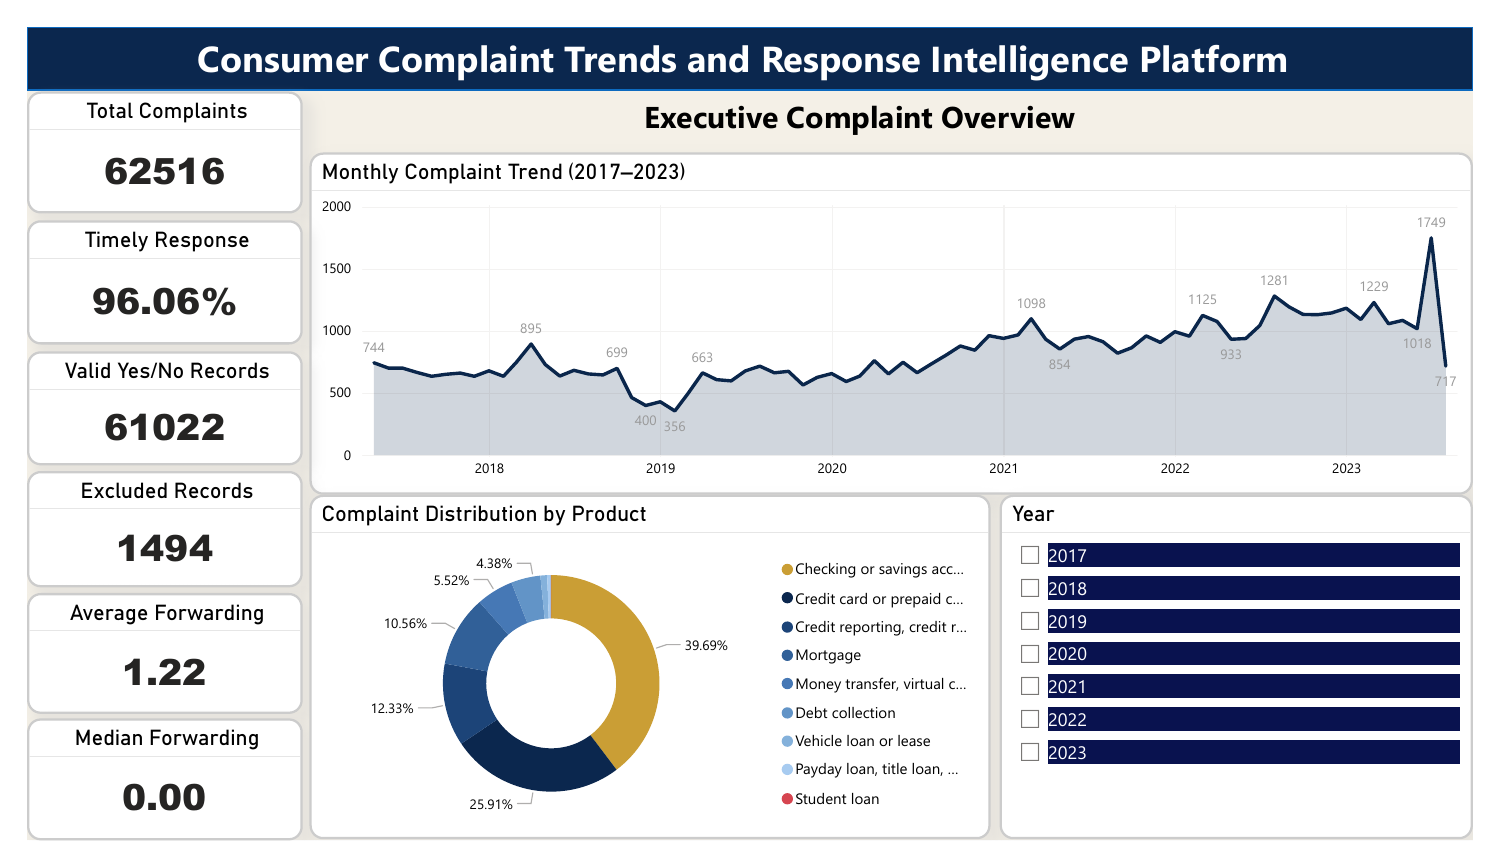

The dashboard page shown, as its layout file describes it:
{"tool":"powerbi","page":{"name":"Executive Complaint Overview","canvas":[1280,720],"ordinal":0},"visuals":[{"type":"shape","box":[0,0,1280,56.4],"z":0},{"type":"cardVisual","title":"Total Complaints","fields":{"Data":["Complaints.Total Complaints"]},"box":[0,57.1,243.6,107.5],"z":1000},{"type":"lineChart","title":"Monthly Complaint Trend (2017–2023)","fields":{"Category":["Complaints.Month Start"],"Y":["Complaints.Total Complaints"]},"box":[249.5,111.1,1030.5,302.5],"z":2000},{"type":"cardVisual","title":"Timely Response","fields":{"Data":["Complaints.Timely Response %"]},"box":[0,171.3,243.6,109.2],"z":3000},{"type":"cardVisual","title":"Valid Yes/No Records","fields":{"Data":["Complaints.Timely Eligible"]},"box":[0,287.2,243.6,100.8],"z":4000},{"type":"cardVisual","title":"Excluded Records","fields":{"Data":["Complaints.Excluded Timeliness"]},"box":[0,393.5,243.6,102.5],"z":5000},{"type":"cardVisual","title":"Average Forwarding","fields":{"Data":["Complaints.Average Forwarding Days"]},"box":[0,500.6,243.6,107.5],"z":6000},{"type":"cardVisual","title":"Median Forwarding","fields":{"Data":["Complaints.Median Forwarding Days"]},"box":[0,612.5,243.6,107.5],"z":7000},{"type":"donutChart","title":"Complaint Distribution by Product","fields":{"Category":["Complaints.Product"],"Y":["Complaints.Total Complaints"]},"box":[249.5,413.6,603.3,305.9],"z":8000},{"type":"slicer","title":"Year","fields":{"Values":["Complaints.Year"]},"box":[861.3,413.6,418.7,305.9],"z":9000},{"type":"textbox","box":[365.7,56.4,743.4,54.7],"z":10000},{"type":"textbox","box":[100.8,0,1066.4,56.4],"z":11000}]}

Visuals, with their boxes in screenshot pixels (x1, y1, x2, y2), scaled from the page's 1280x720 canvas onto the 1500x868 screenshot:
shape: box(0, 0, 1499, 68)
"Total Complaints" cardVisual: box(0, 69, 285, 198)
"Monthly Complaint Trend (2017–2023)" lineChart: box(292, 134, 1499, 499)
"Timely Response" cardVisual: box(0, 207, 285, 338)
"Valid Yes/No Records" cardVisual: box(0, 346, 285, 468)
"Excluded Records" cardVisual: box(0, 474, 285, 598)
"Average Forwarding" cardVisual: box(0, 604, 285, 733)
"Median Forwarding" cardVisual: box(0, 738, 285, 867)
"Complaint Distribution by Product" donutChart: box(292, 499, 999, 867)
"Year" slicer: box(1009, 499, 1499, 867)
textbox: box(429, 68, 1300, 134)
textbox: box(118, 0, 1368, 68)
